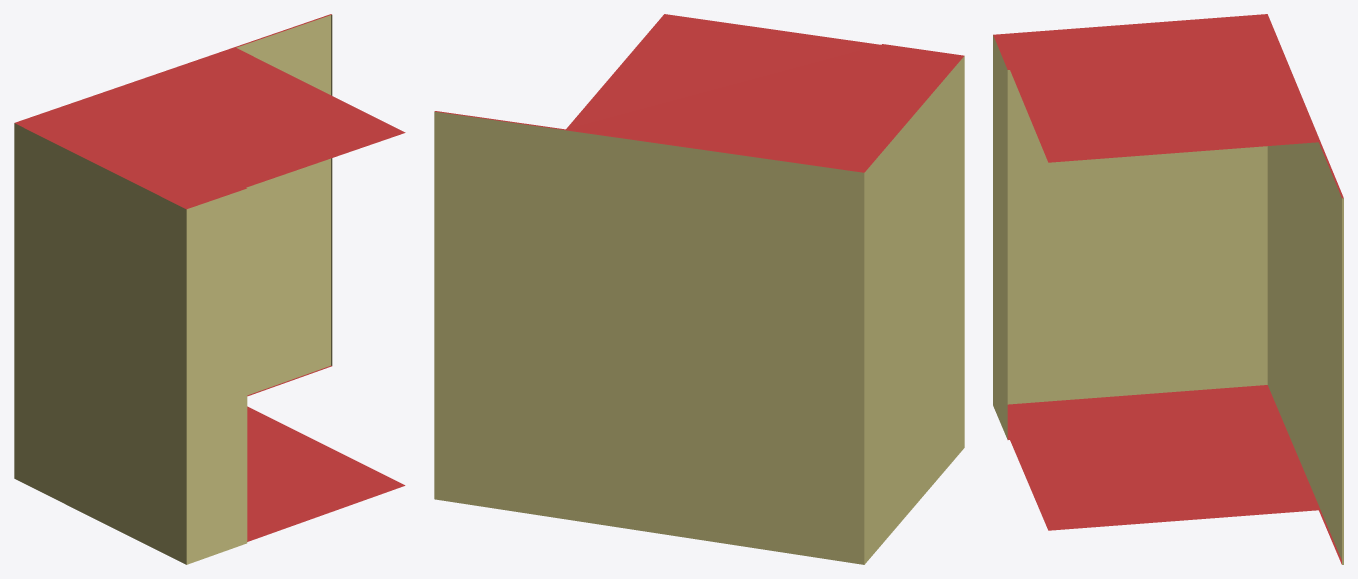
The picture shows the model from 3 angles, left to right: view 1: azimuth 30°, elevation 25°; view 2: azimuth 150°, elevation 25°; view 3: azimuth 270°, elevation 25°; orthographic projection. The views are drawn at different scales.
Bounding box in the file's own units: 7.19 × 5.92 × 6.91.
